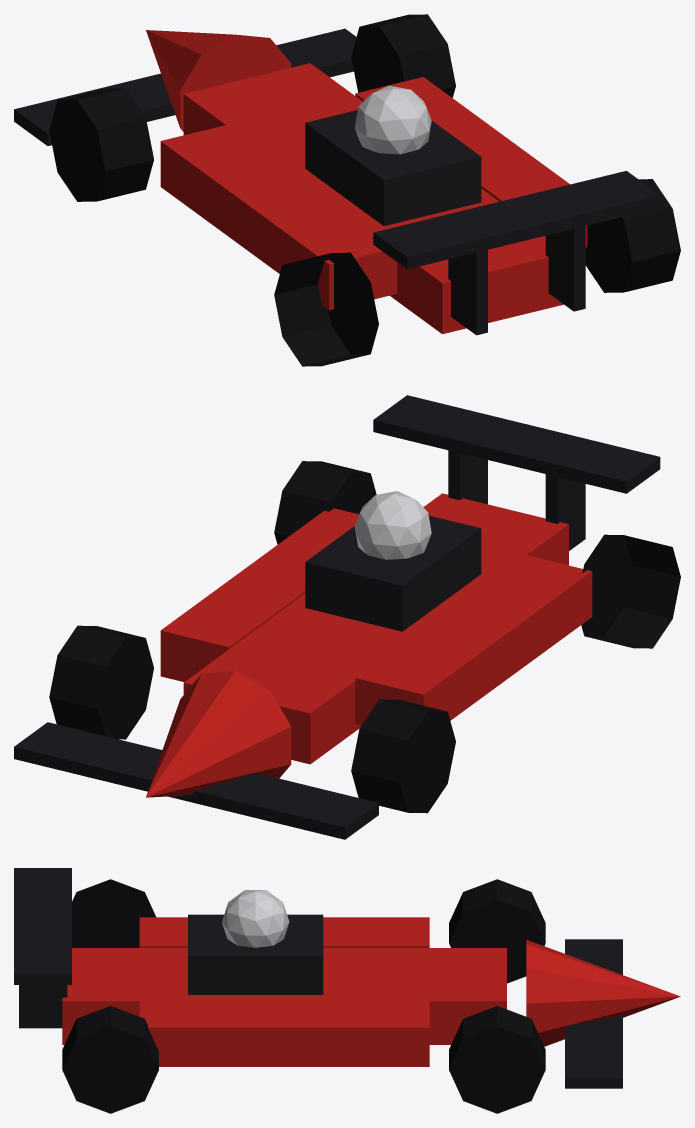
File: race_car.glb
3 views of the same model, one above another, from view 1: azimuth 30°, elevation 25°; view 2: azimuth 150°, elevation 25°; view 3: azimuth 270°, elevation 25° (orthographic). The views are drawn at different scales.
Parts seen in each view (by area): view 1: race_car; view 2: race_car; view 3: race_car.
Boxes of the visible parts, x1,y1,x2,y2 form: race_car: [14, 14, 680, 366]; race_car: [14, 395, 680, 839]; race_car: [14, 868, 680, 1113].
Bounding box in the file's own units: 0.36 × 0.18 × 0.69.
